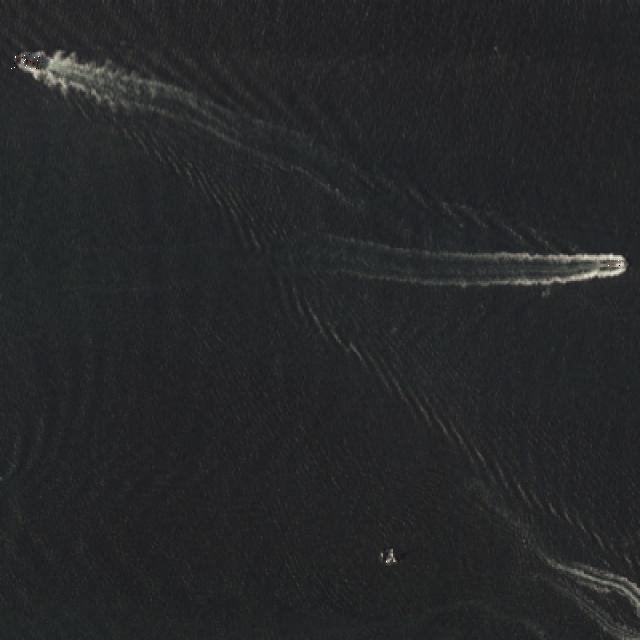boat: (11, 54, 45, 69), (381, 548, 395, 562), (608, 259, 629, 267)
